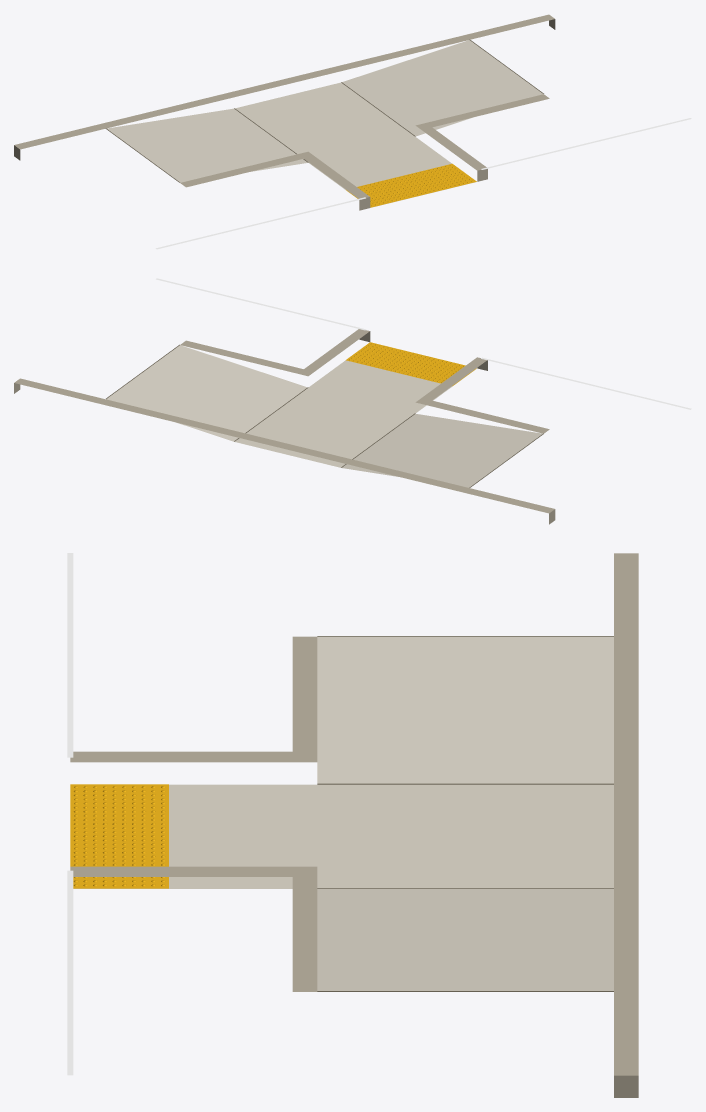
The model's file is ramp-422b-strip.glb.
The picture shows the model from 3 angles, top to bottom: view 1: azimuth 30°, elevation 25°; view 2: azimuth 150°, elevation 25°; view 3: azimuth 270°, elevation 25°; orthographic projection. The views are drawn at different scales.
Visible parts, largest first — view 1: Seattle Type 422B: Parallel ramp behind a planting strip; view 2: Seattle Type 422B: Parallel ramp behind a planting strip; view 3: Seattle Type 422B: Parallel ramp behind a planting strip.
Boxes of the visible parts, x1,y1,x2,y2 form: Seattle Type 422B: Parallel ramp behind a planting strip: (14, 14, 691, 249); Seattle Type 422B: Parallel ramp behind a planting strip: (14, 278, 691, 524); Seattle Type 422B: Parallel ramp behind a planting strip: (67, 553, 638, 1097).
Size of the model in its own units: 7.62 by 0.1554 by 3.52.
